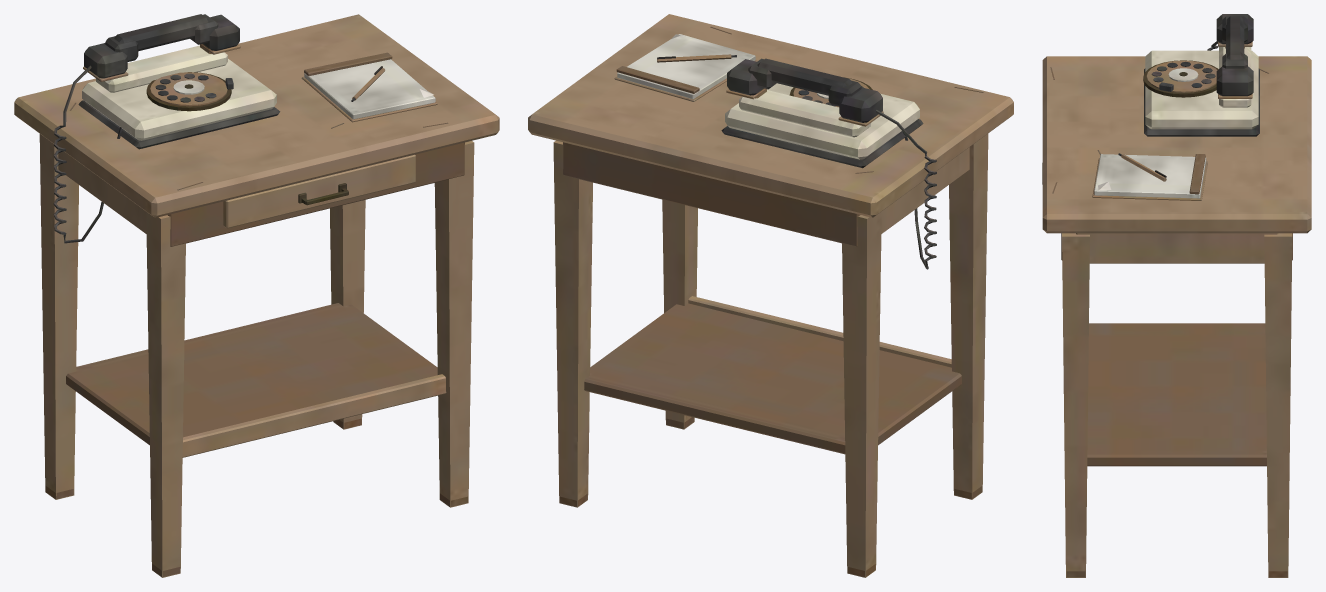
The model's file is L20_telephone_table.glb.
3 renders of one model, left to right at view 1: azimuth 30°, elevation 25°; view 2: azimuth 150°, elevation 25°; view 3: azimuth 270°, elevation 25°, orthographic. The views are drawn at different scales.
Parts seen in each view (by area): view 1: Thick battered tabletop; view 2: Thick battered tabletop; view 3: Thick battered tabletop.
Boxes of the visible parts, x1=… form: Thick battered tabletop: x1=14, y1=14, x2=499, y2=577; Thick battered tabletop: x1=528, y1=14, x2=1013, y2=577; Thick battered tabletop: x1=1042, y1=14, x2=1311, y2=577.
Size of the model in its own units: 0.564 by 0.7 by 0.3869.
Materials: 8 (8 with a texture image).
